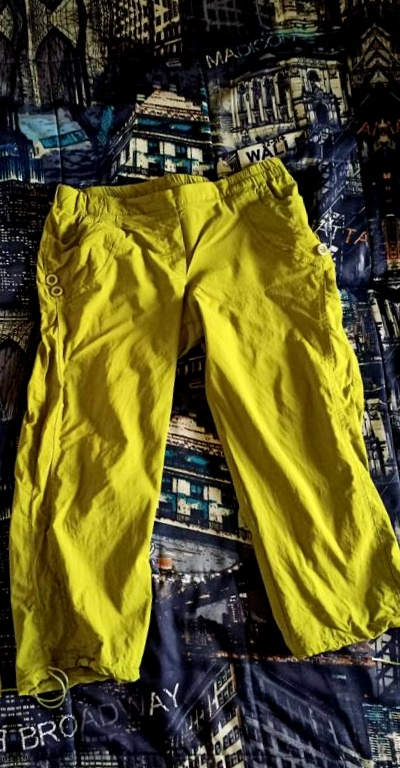Pants: (0, 116, 400, 678), (395, 81, 400, 644)
